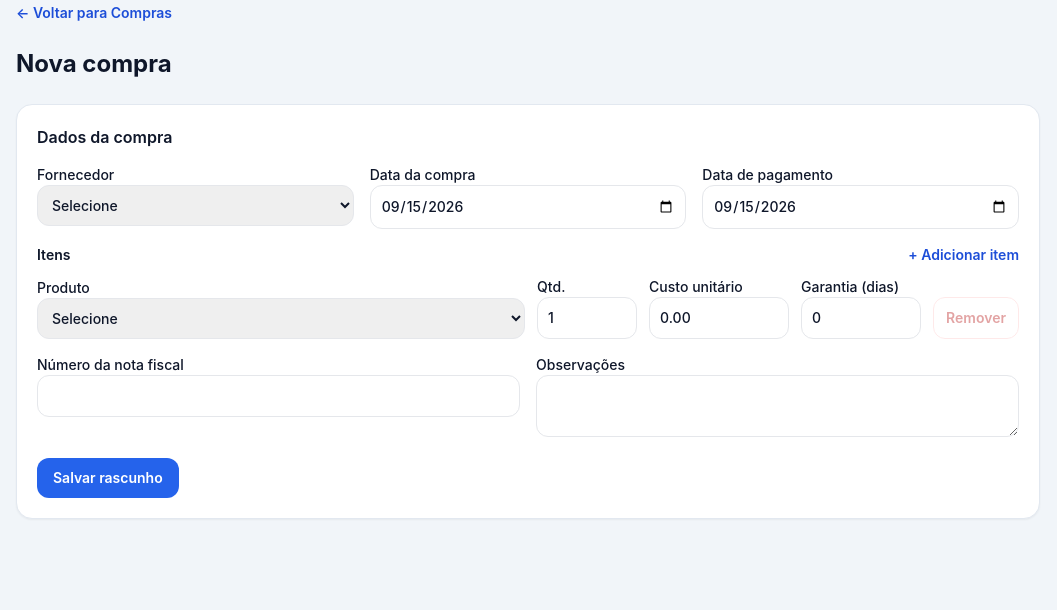
Test case: Purchases › allows removing added items but keeps at least one item
Check: the button with aria-label "Remover item" is disabled, box [933, 297, 1019, 339]
Click the button "+ Adicionar item" at (964, 255), box [908, 245, 1019, 265]
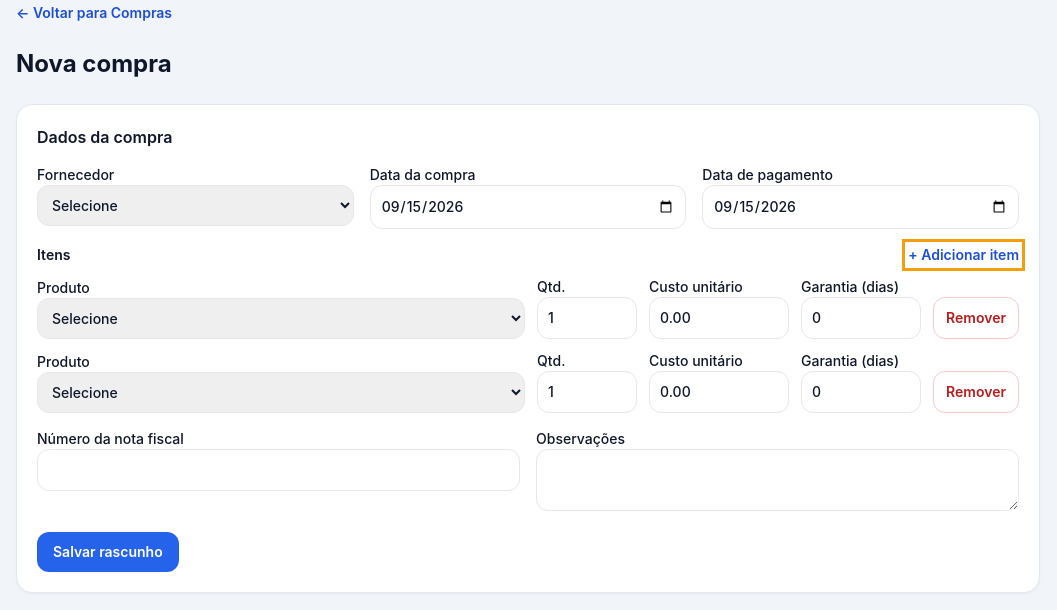
Click the button with aria-label "Remover item" at (976, 318), box [933, 297, 1019, 339]
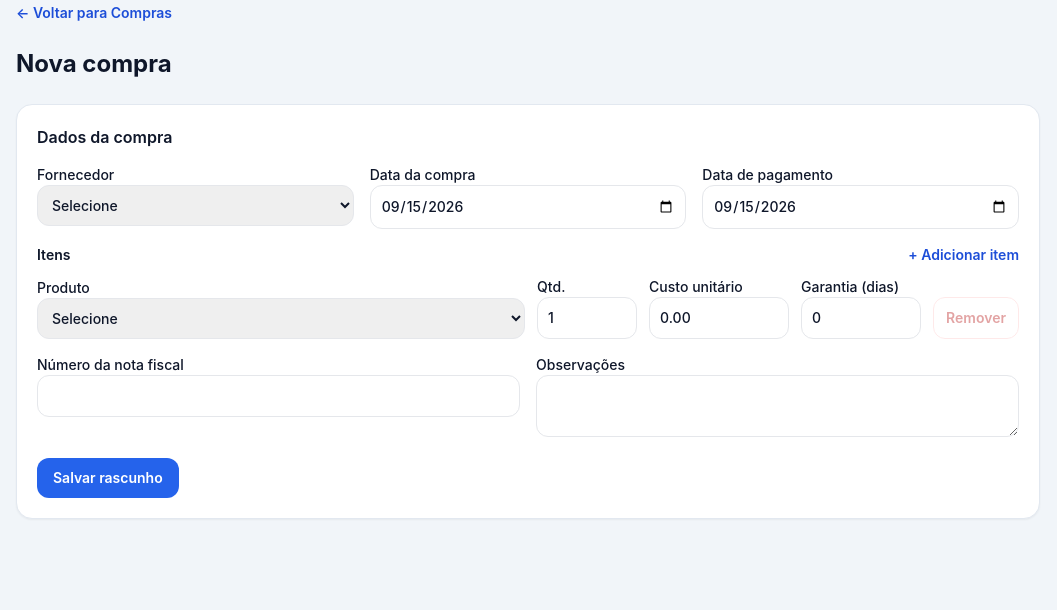
Check: the number of buttons named "Remover item" is 1, box [933, 297, 1019, 339]
Check: the button with aria-label "Remover item" is disabled, box [933, 297, 1019, 339]
